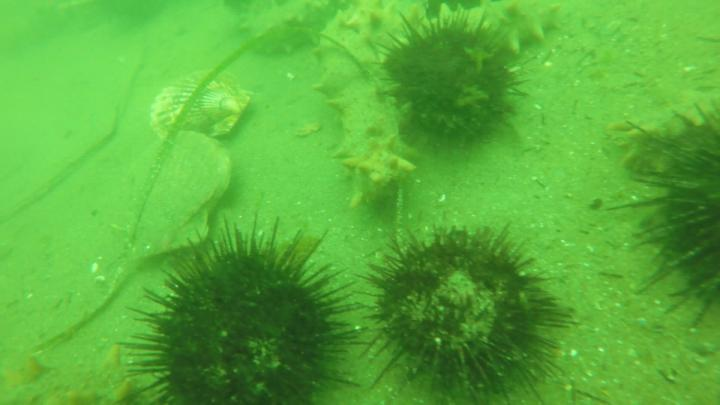echinus: (124, 202, 360, 405), (360, 211, 573, 405), (626, 87, 720, 335), (380, 11, 531, 155)
holothurian: (318, 1, 436, 193), (615, 91, 720, 176), (410, 1, 568, 53), (243, 1, 336, 58)
scallop: (103, 130, 236, 260), (152, 67, 255, 144)
